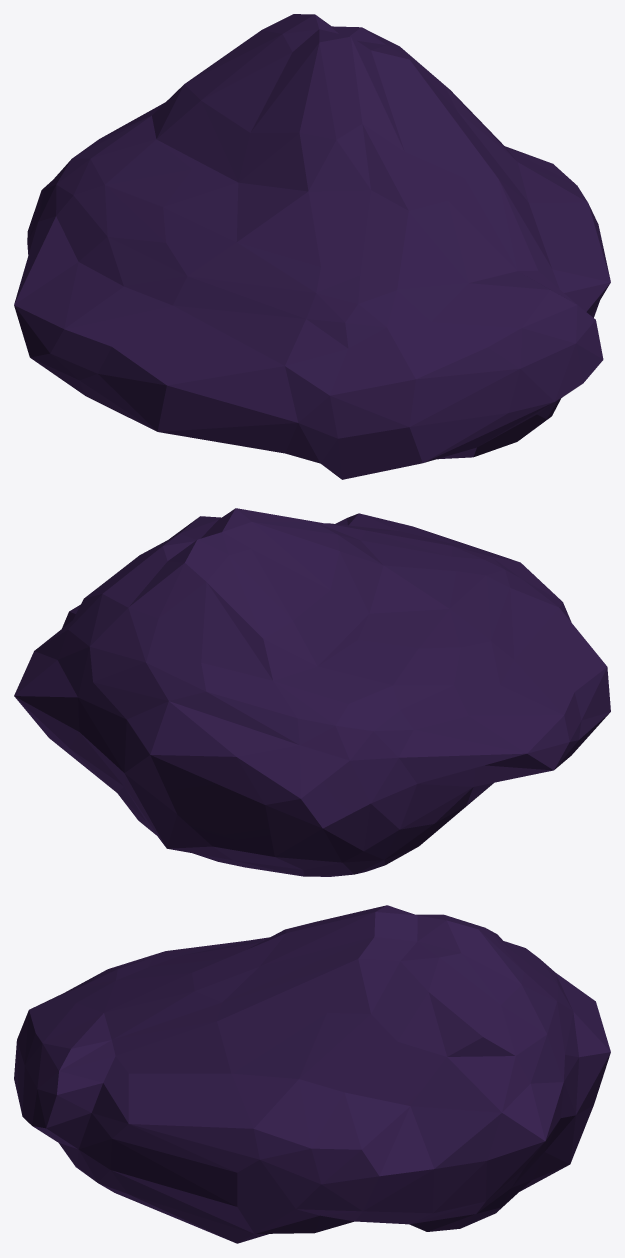
File: ThanosRock_1.fbx
The picture shows the model from 3 angles, top to bottom: view 1: azimuth 30°, elevation 25°; view 2: azimuth 150°, elevation 25°; view 3: azimuth 270°, elevation 25°; orthographic projection. The views are drawn at different scales.
Visible parts, largest first — view 1: ThanosRock_LOD0; view 2: ThanosRock_LOD0; view 3: ThanosRock_LOD0.
Part boxes in pixels (x1,y1,x2,y2): ThanosRock_LOD0: [14, 14, 610, 479]; ThanosRock_LOD0: [14, 508, 610, 876]; ThanosRock_LOD0: [14, 905, 610, 1243].
Size of what is drawn, in the model's own units: 208 by 127 by 221.
